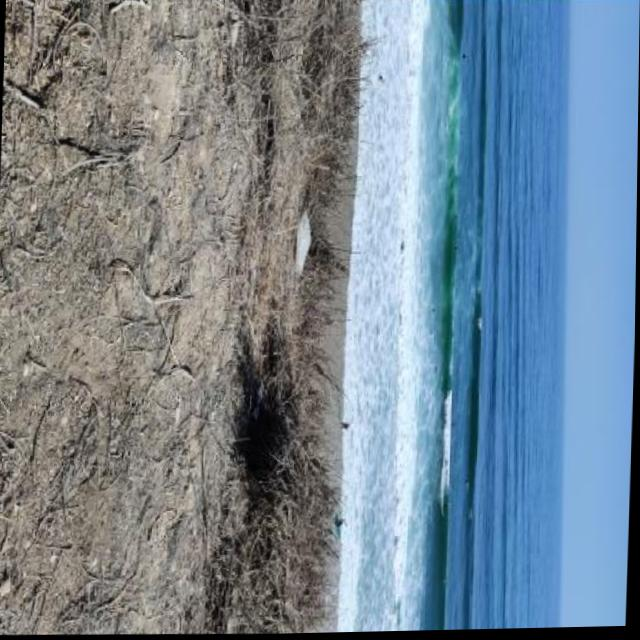plastic: (295, 206, 313, 272)
